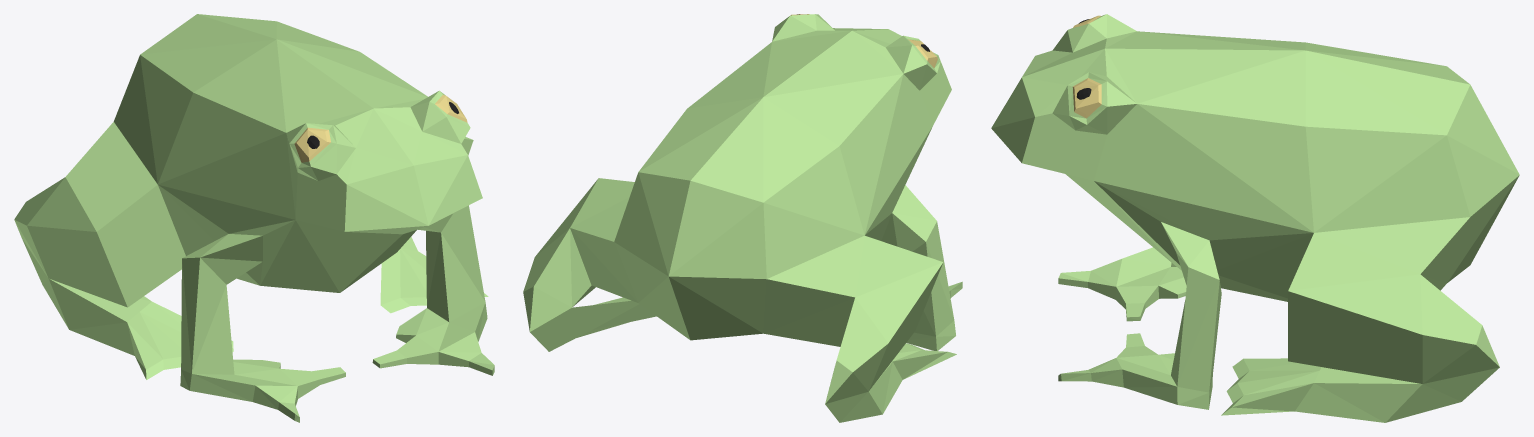
The model's file is frog-by-j-toastie-wHwEWIrtnB.glb.
The picture shows the model from 3 angles, left to right: view 1: azimuth 30°, elevation 25°; view 2: azimuth 150°, elevation 25°; view 3: azimuth 270°, elevation 25°; orthographic projection. The views are drawn at different scales.
Visible parts, largest first — view 1: Frog; view 2: Frog; view 3: Frog.
Part boxes in pixels (bbox=[...]): Frog: bbox=[14, 14, 494, 422]; Frog: bbox=[523, 14, 962, 422]; Frog: bbox=[991, 14, 1519, 422].
Size of the model in its own units: 0.2315 by 0.1604 by 0.2649.
